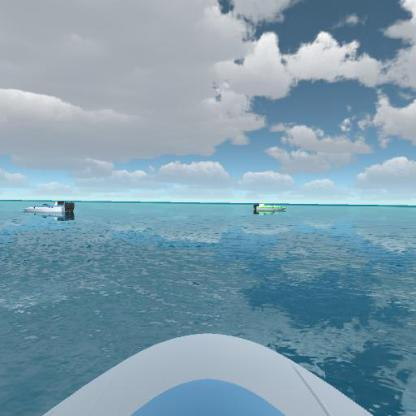usv0: (252, 199, 292, 216)
usv1: (22, 194, 78, 219)
